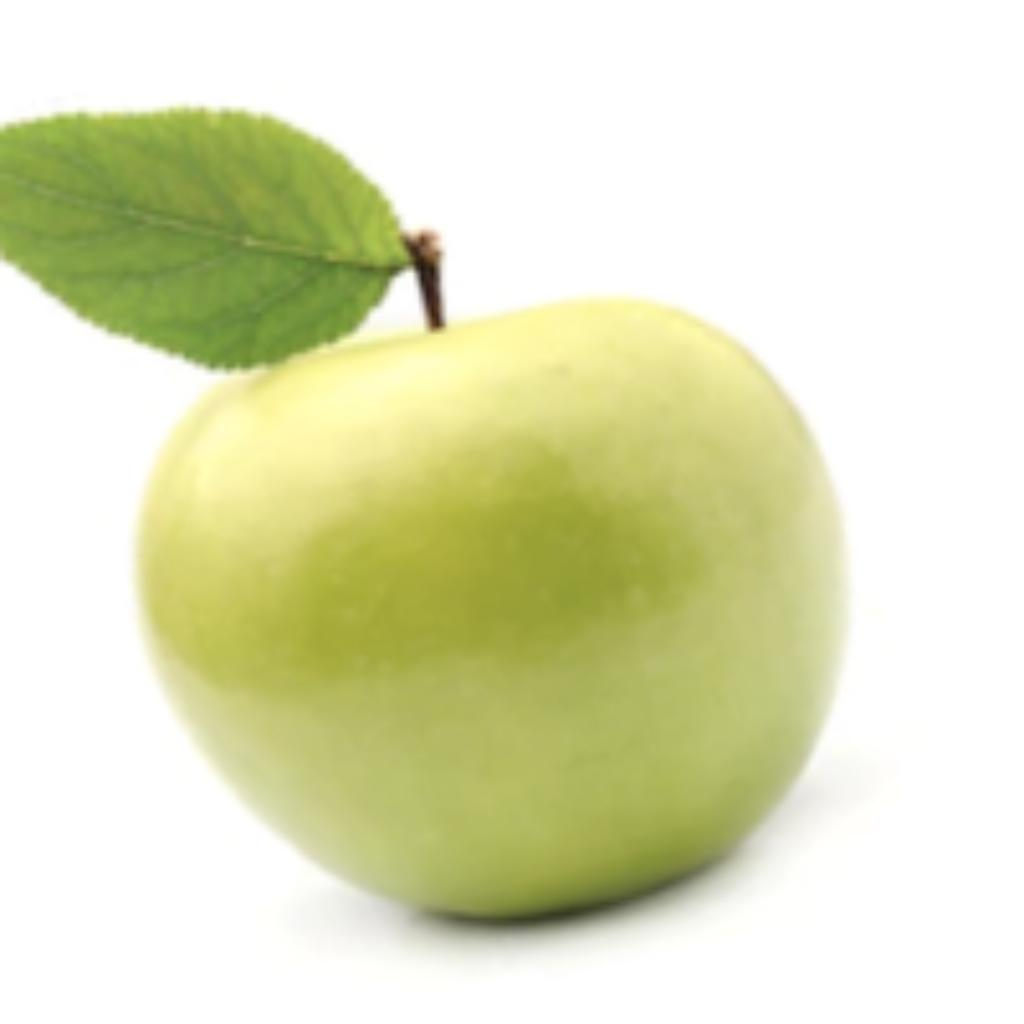apple: (0, 92, 855, 973)
